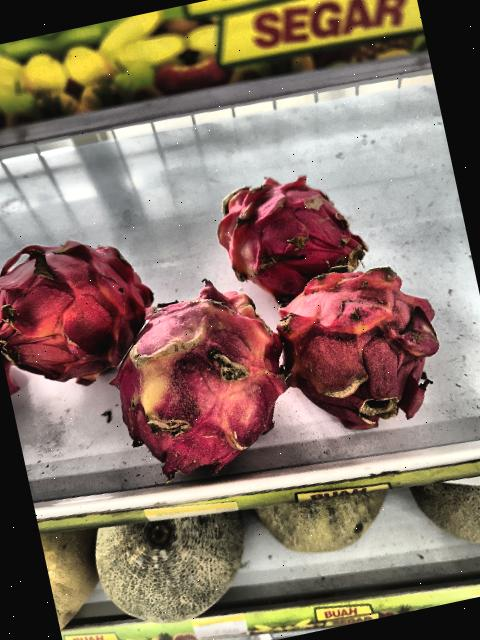buah-naga-belum-matang: (107, 276, 308, 484)
buah-naga-matang: (264, 251, 456, 450), (0, 218, 161, 386), (204, 158, 374, 306)
